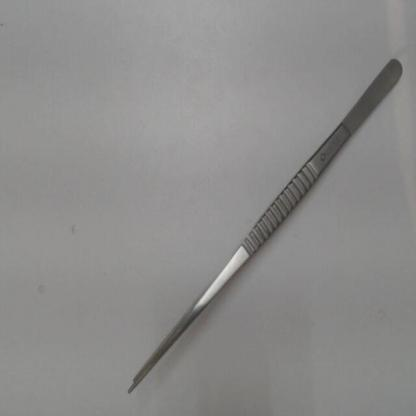DeBakey Dissector: (122, 37, 412, 410)
